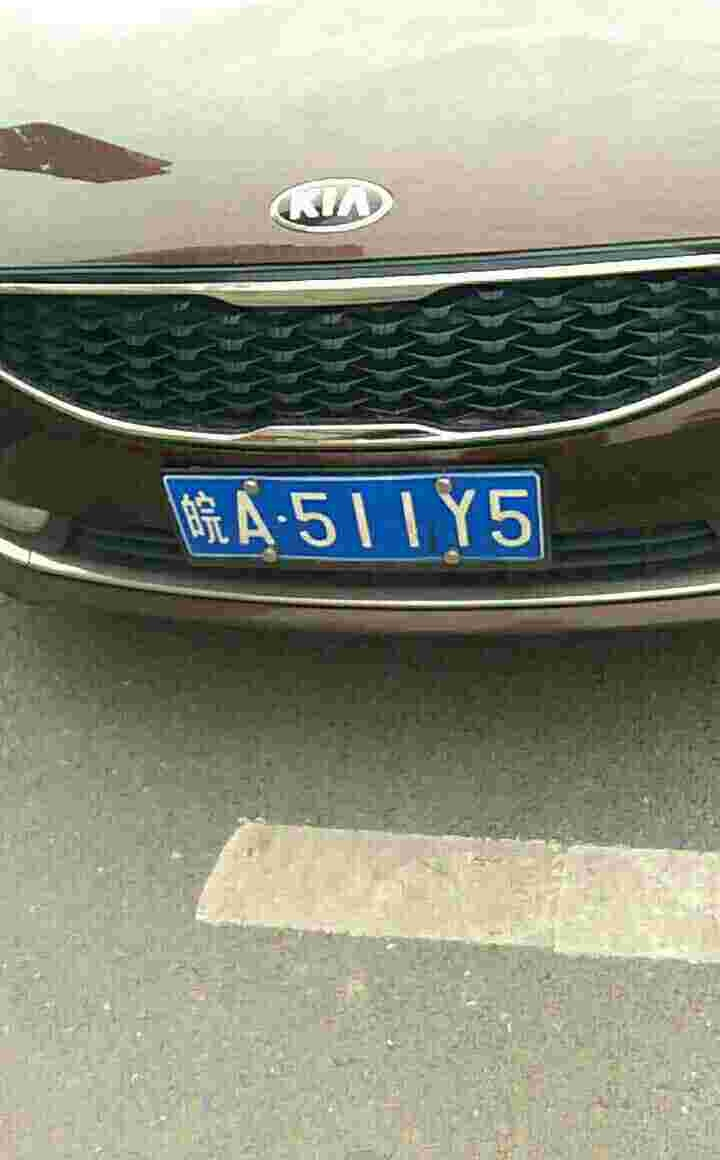license_plate: (182, 465, 556, 551)
